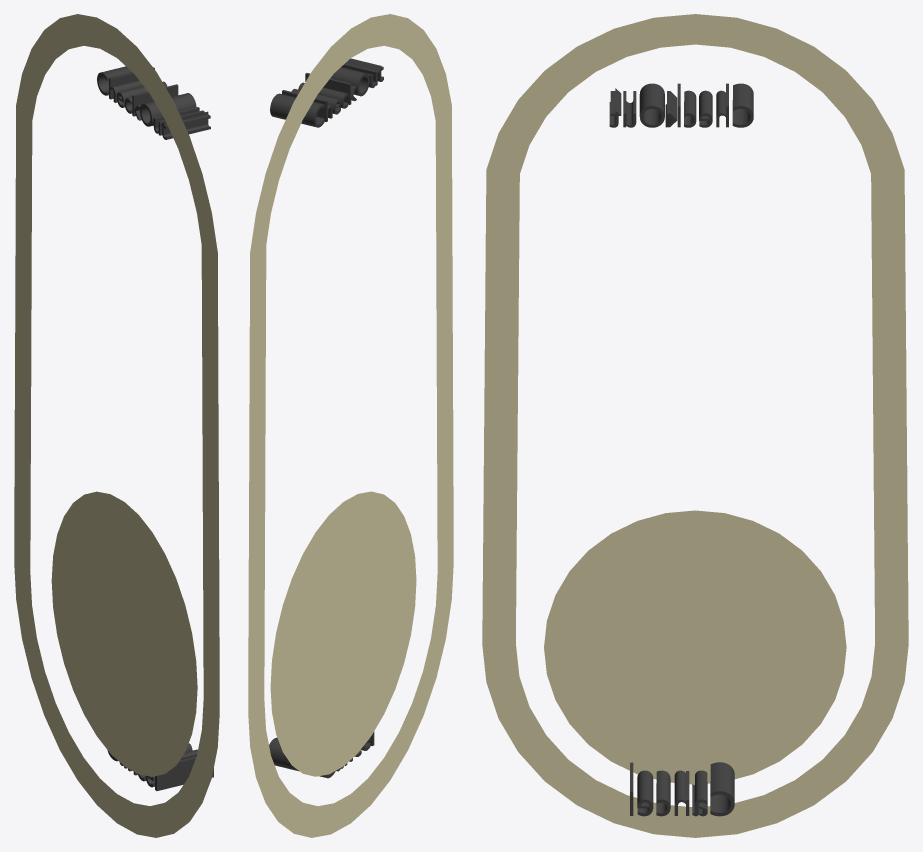
File: button4.fbx
The picture shows the model from 3 angles, left to right: view 1: azimuth 30°, elevation 25°; view 2: azimuth 150°, elevation 25°; view 3: azimuth 270°, elevation 25°; orthographic projection. The views are drawn at different scales.
Parts seen in each view (by area): view 1: Cylinder.002, Cylinder.003, Text.005, Text.004; view 2: Cylinder.002, Cylinder.003, Text.005, Text.004; view 3: Cylinder.002, Cylinder.003, Text.005, Text.004.
Part boxes in pixels (x1,y1,x2,y2): Cylinder.002: (14,14,219,837); Cylinder.003: (51,491,197,776); Text.005: (97,66,210,139); Text.004: (107,743,213,790); Cylinder.002: (248,14,453,837); Cylinder.003: (270,491,416,776); Text.005: (270,58,383,127); Text.004: (269,731,374,778); Cylinder.002: (482,14,908,837); Cylinder.003: (544,510,846,784); Text.005: (609,83,753,127); Text.004: (630,762,734,816).
Bounding box in the file's own units: 10.29 × 119 × 55.93.
